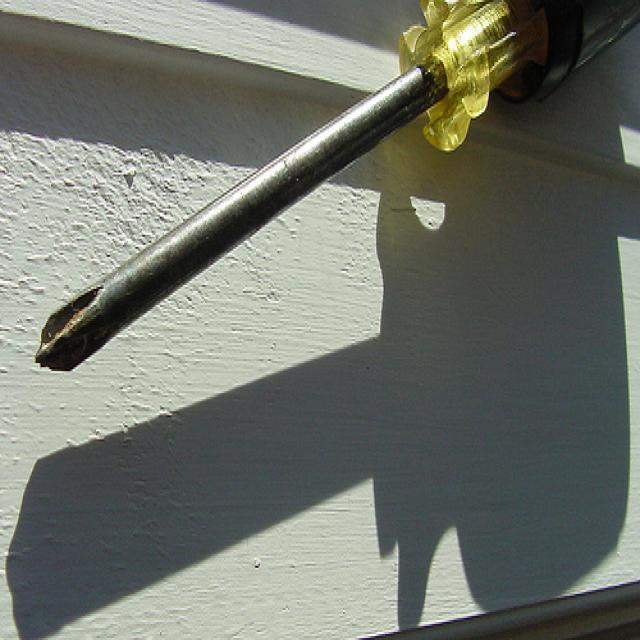screwdriver: (30, 0, 639, 385)
